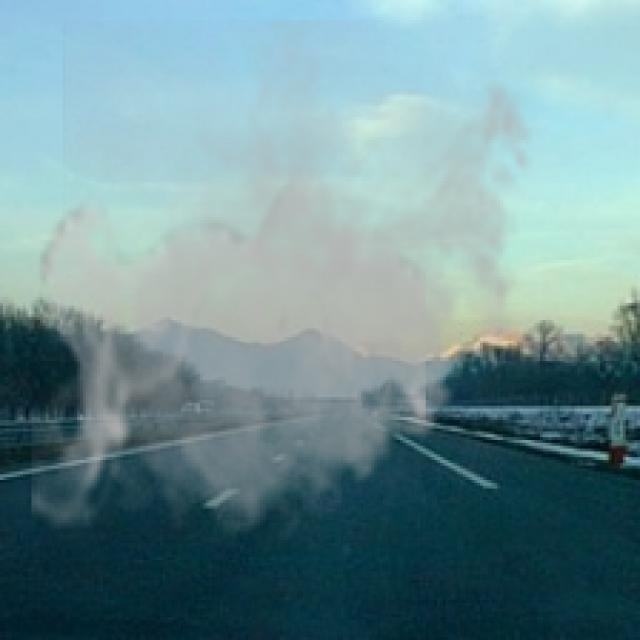Smoke: (31, 19, 548, 554)
